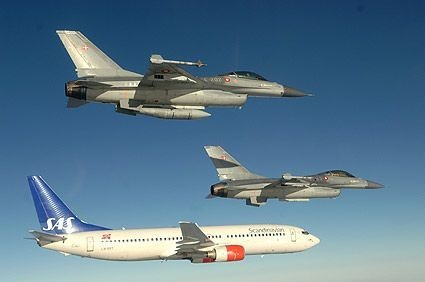airplane: (19, 175, 320, 263), (51, 26, 317, 125), (204, 143, 386, 205)
